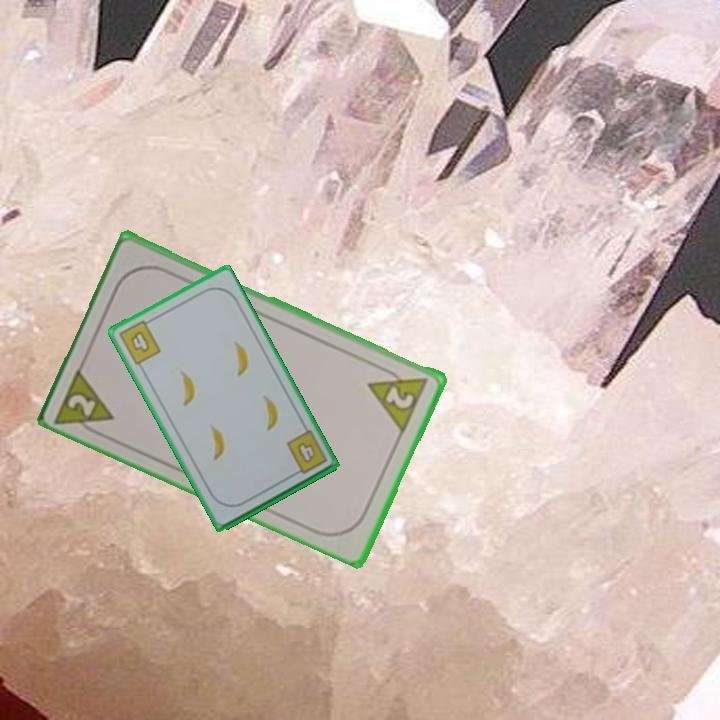2p: (364, 360, 432, 435), (52, 362, 118, 439)
4b: (115, 315, 164, 368), (282, 426, 330, 479)
